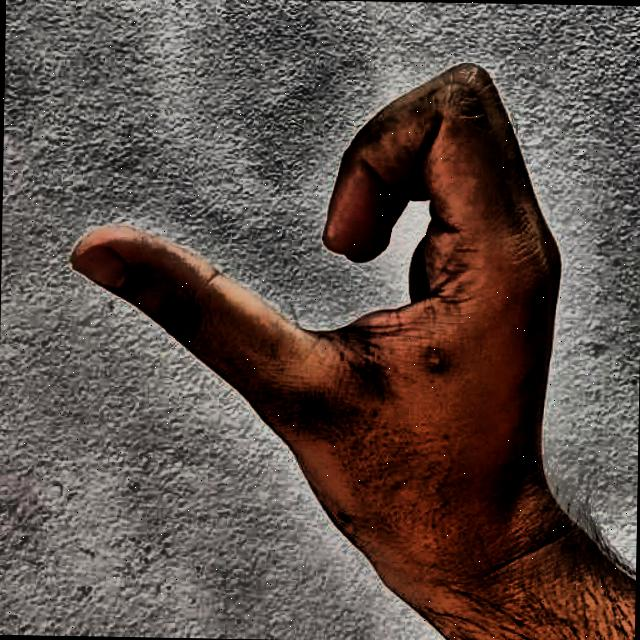Kha: (29, 18, 602, 615)
